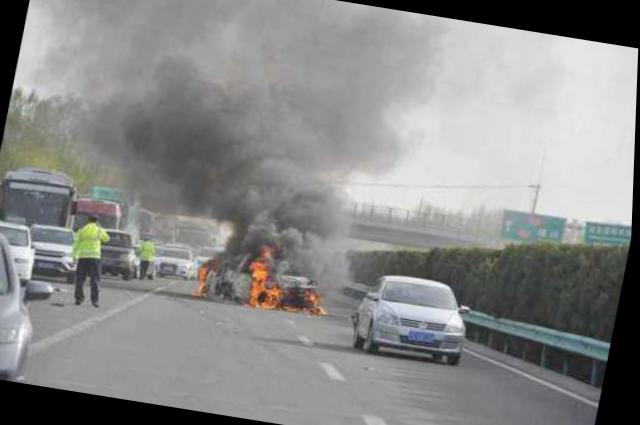fire: (193, 233, 335, 322)
